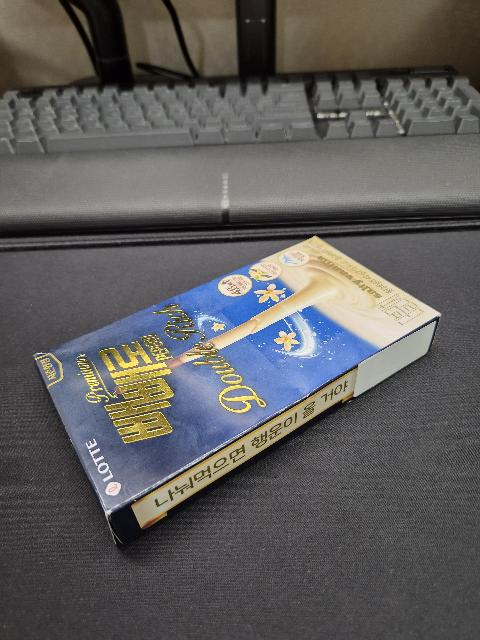pepero: (33, 235, 442, 548)
